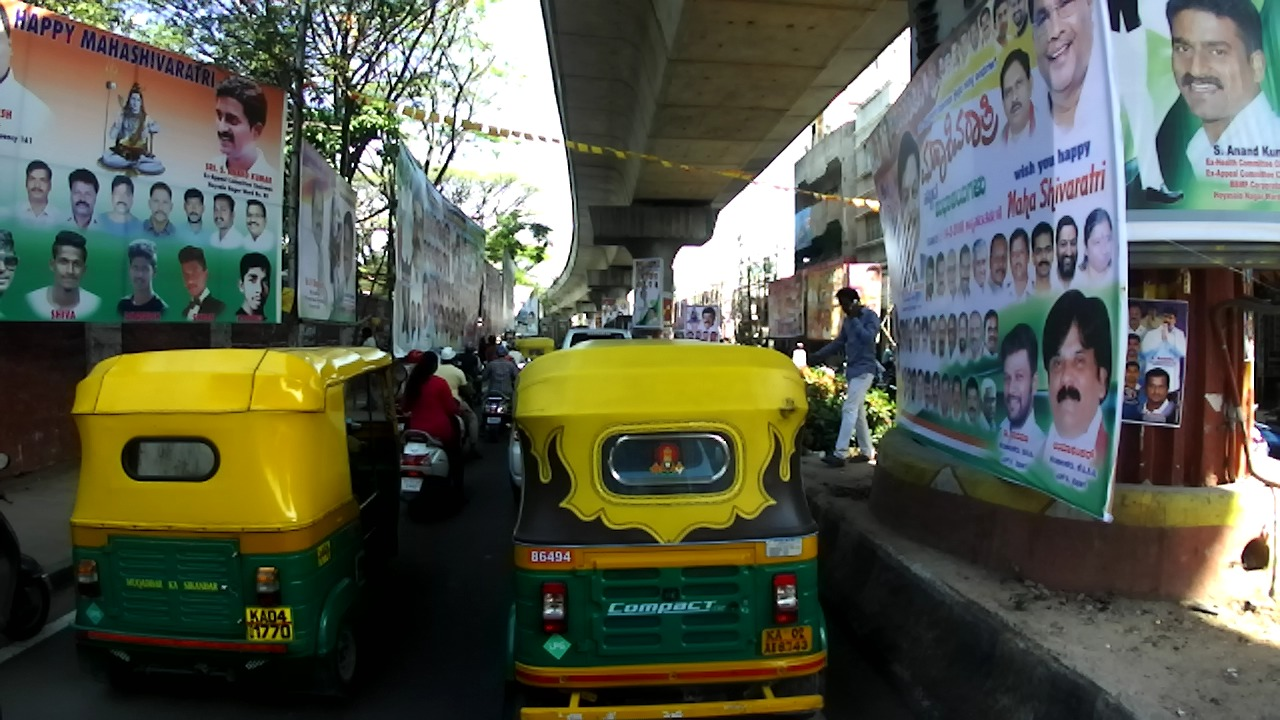autorickshaw: (510, 337, 832, 718), (68, 344, 409, 702), (518, 336, 556, 363)
bus: (603, 314, 635, 332)
car: (506, 415, 526, 510), (558, 327, 637, 351)
motorcycle: (1, 453, 54, 641), (395, 402, 474, 511), (478, 370, 520, 445), (444, 373, 477, 459), (464, 360, 492, 405), (884, 368, 905, 403), (872, 371, 893, 395), (511, 356, 534, 370)
person: (805, 285, 880, 469), (358, 325, 378, 390), (880, 343, 899, 372)
rider: (401, 349, 467, 502), (430, 346, 483, 458), (480, 346, 516, 411), (458, 341, 485, 397), (481, 335, 499, 367), (506, 343, 526, 366), (870, 355, 889, 379), (834, 353, 851, 375), (472, 347, 484, 377), (492, 337, 508, 359), (501, 336, 510, 352), (514, 346, 522, 354)
truck: (540, 319, 574, 353)
vehicle fallback: (1251, 402, 1278, 459)
